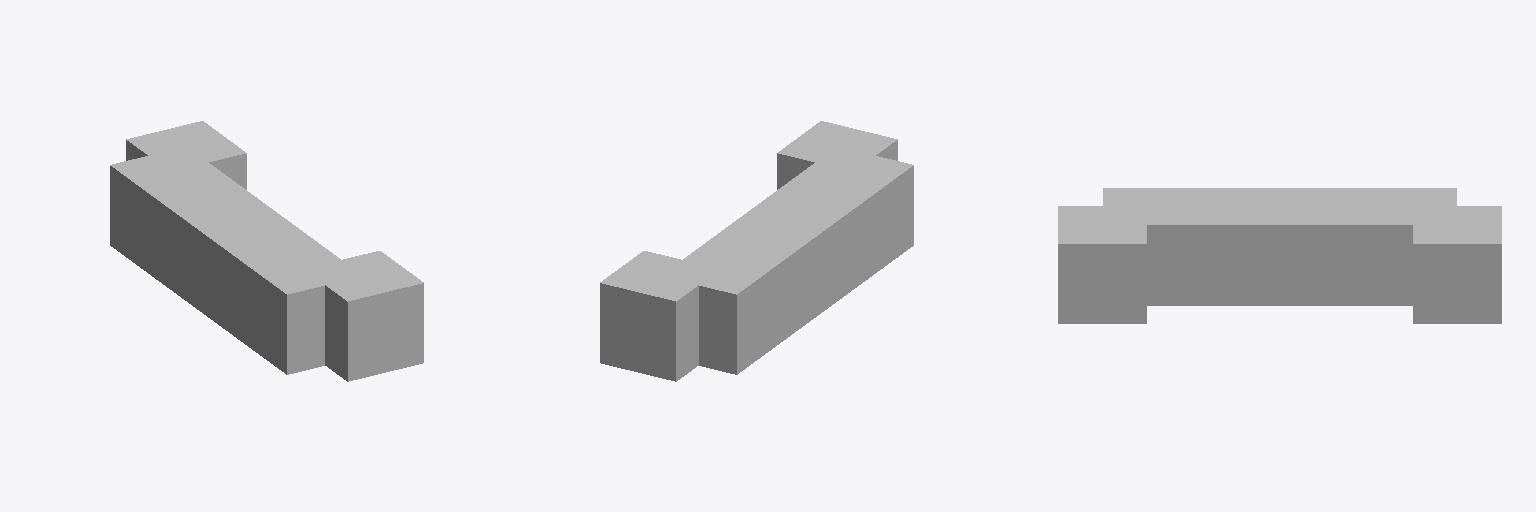
The model's file is carsonTaylor.obj.
3 views of the same model, side by side, from view 1: azimuth 30°, elevation 25°; view 2: azimuth 150°, elevation 25°; view 3: azimuth 270°, elevation 25° (orthographic).
Visible parts, largest first — view 1: Cube; view 2: Cube; view 3: Cube.
Part boxes in pixels (x1,y1,x2,y2): Cube: (110,121,423,381); Cube: (600,121,913,381); Cube: (1058,188,1501,323).
Bounding box in the file's own units: 3 × 2 × 10.